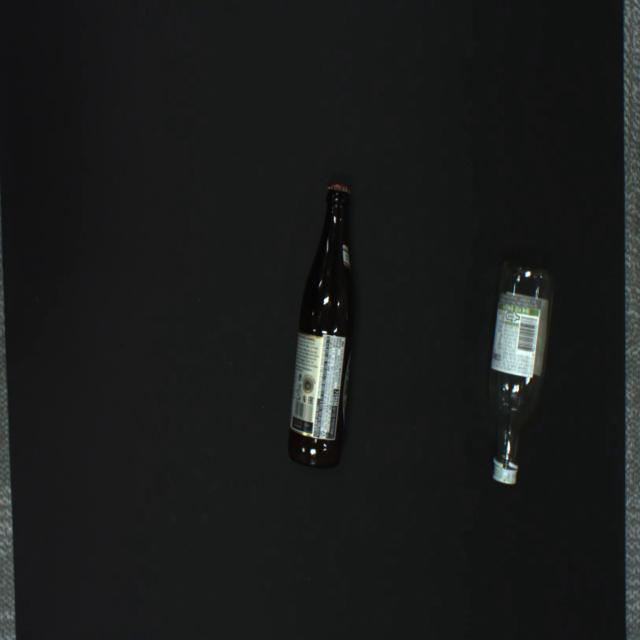beer-bottle: (288, 184, 353, 467)
soju-bottle: (489, 263, 554, 484)
